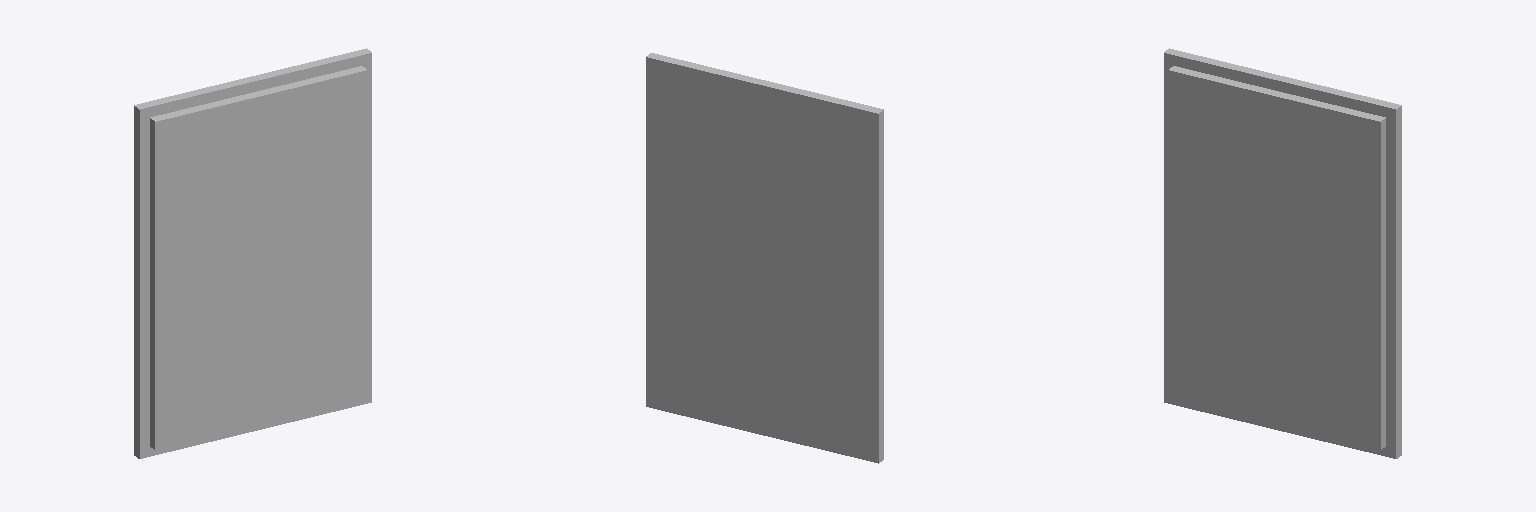
File: Mirror.obj
The picture shows the model from 3 angles: view 1: azimuth 30°, elevation 25°; view 2: azimuth 150°, elevation 25°; view 3: azimuth 330°, elevation 25°; orthographic projection.
Parts seen in each view (by area): view 1: Untitled, Untitled.001; view 2: Untitled.001; view 3: Untitled, Untitled.001.
Part boxes in pixels (left/top/right/bottom): Untitled: left=150, top=66, right=367, bottom=450; Untitled.001: left=134, top=48, right=371, bottom=458; Untitled.001: left=646, top=53, right=883, bottom=463; Untitled: left=1168, top=66, right=1385, bottom=450; Untitled.001: left=1164, top=48, right=1401, bottom=458.
Size of the model in its own units: 2.3 by 3.3 by 0.2.